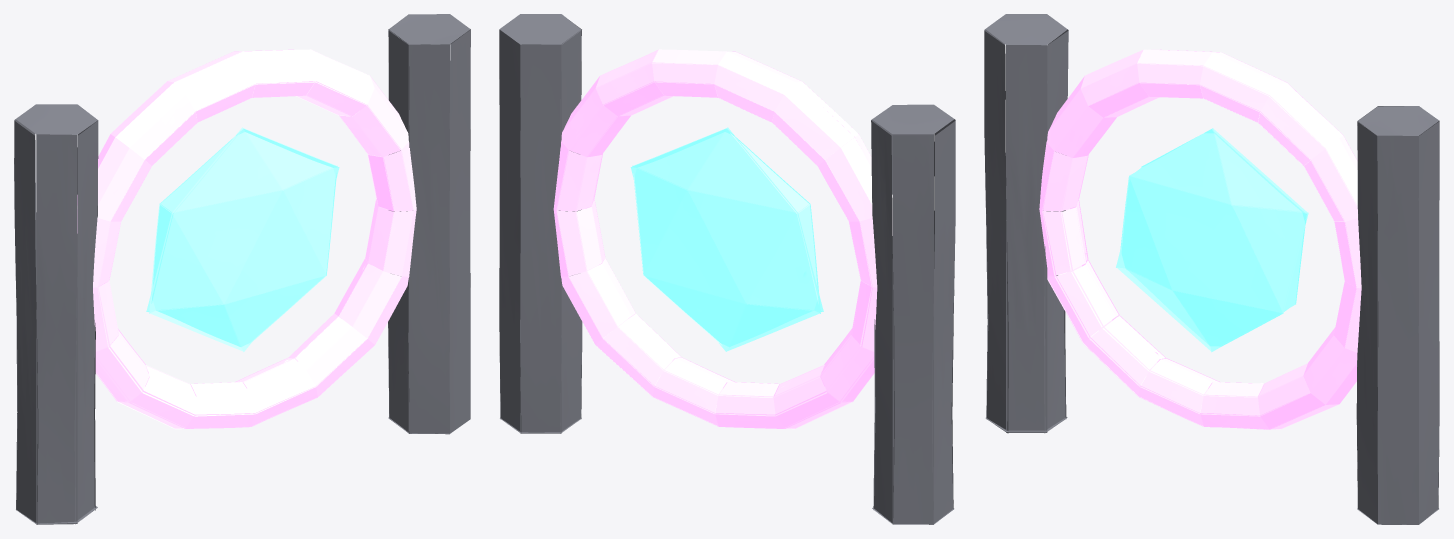
The model's file is portal_gate.glb.
3 renders of one model, left to right at view 1: azimuth 30°, elevation 25°; view 2: azimuth 150°, elevation 25°; view 3: azimuth 330°, elevation 25°, orthographic.
Parts seen in each view (by area): view 1: PortalPillarL; view 2: PortalPillarL; view 3: PortalPillarL.
Boxes of the visible parts, <box> form: PortalPillarL: <box>14,14,470,524</box>; PortalPillarL: <box>499,14,955,524</box>; PortalPillarL: <box>984,14,1439,524</box>.
Size of the model in its own units: 3.04 by 2.76 by 0.5089.
